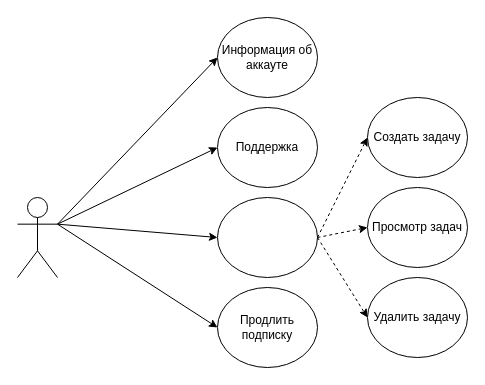
Image size: 485x385. Some labels were removed from this diagram. Each missing label, with the centre of its shape:
User: point 37,237
Меню задачи: point 267,237
